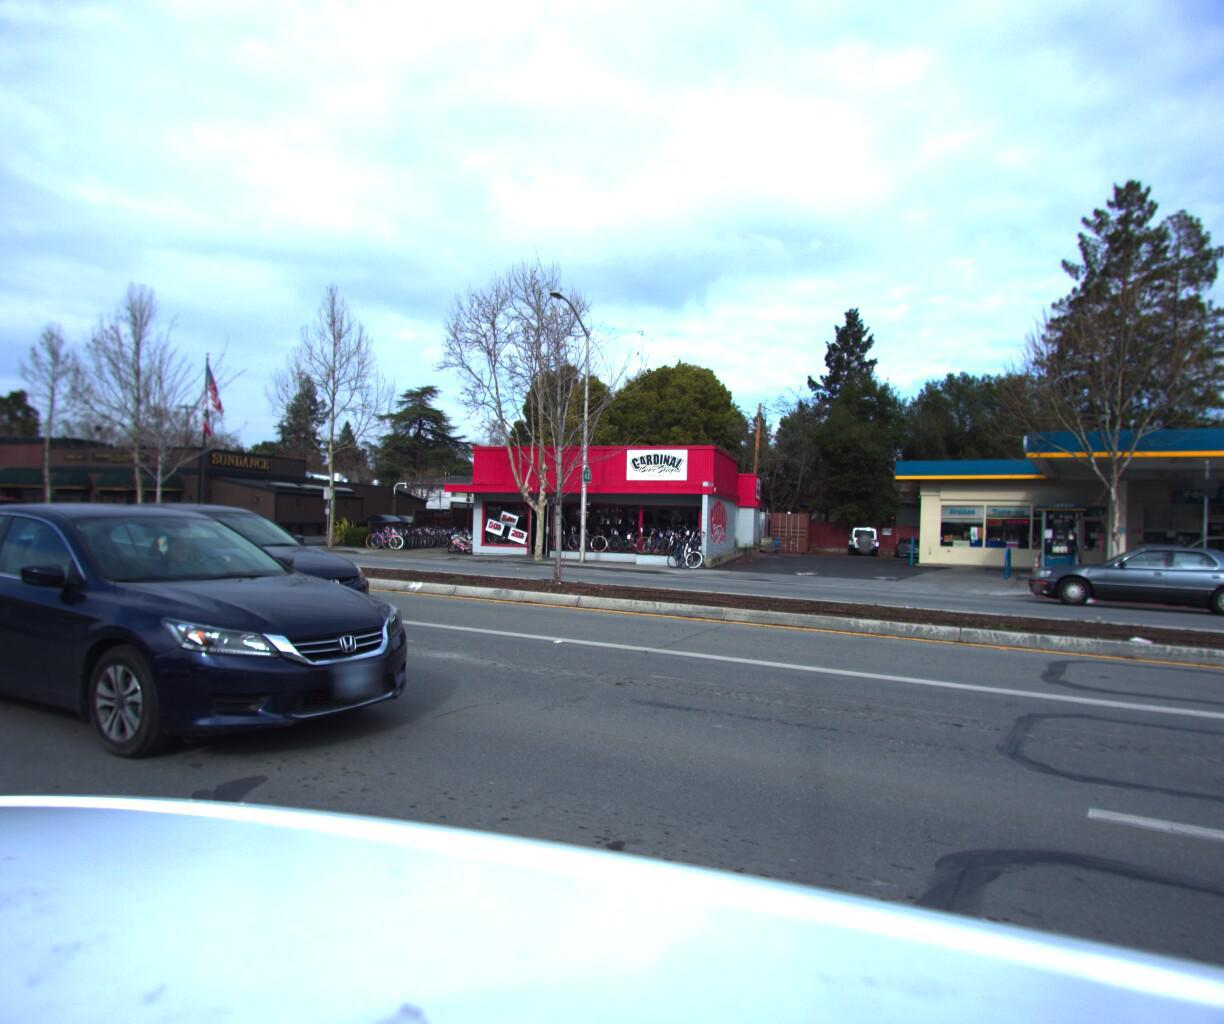bicycle: (674, 531, 710, 564), (684, 532, 719, 564), (369, 517, 401, 542), (373, 517, 405, 542), (394, 518, 424, 542), (423, 519, 452, 540), (445, 528, 473, 547)
car: (32, 496, 391, 639), (1027, 538, 1224, 619), (1119, 523, 1224, 586), (42, 502, 135, 534), (845, 520, 879, 549), (888, 528, 923, 554)
